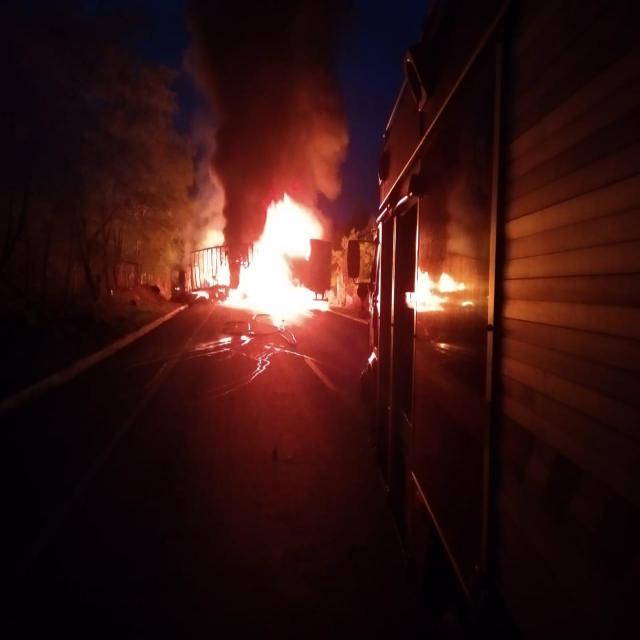Fire: (203, 196, 335, 321)
